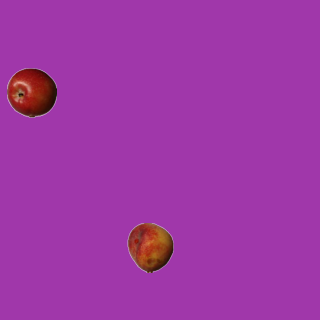Apple Braeburn: (6, 67, 56, 117)
Peach: (125, 222, 175, 272)
